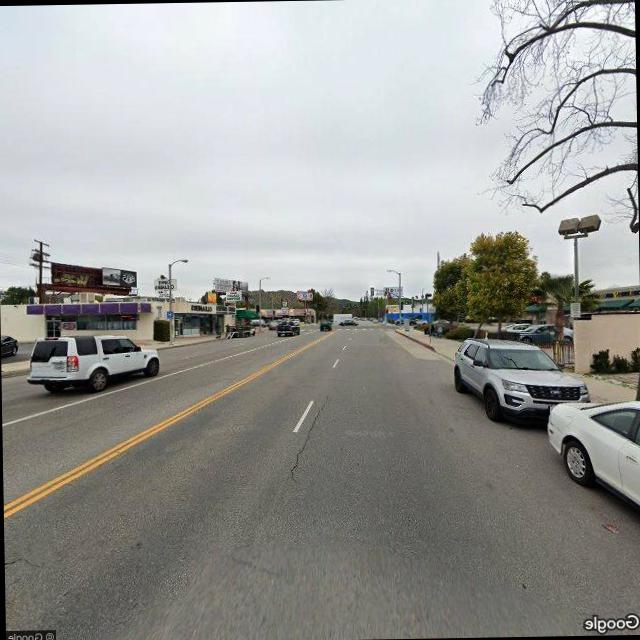pothole: (280, 388, 336, 486)
